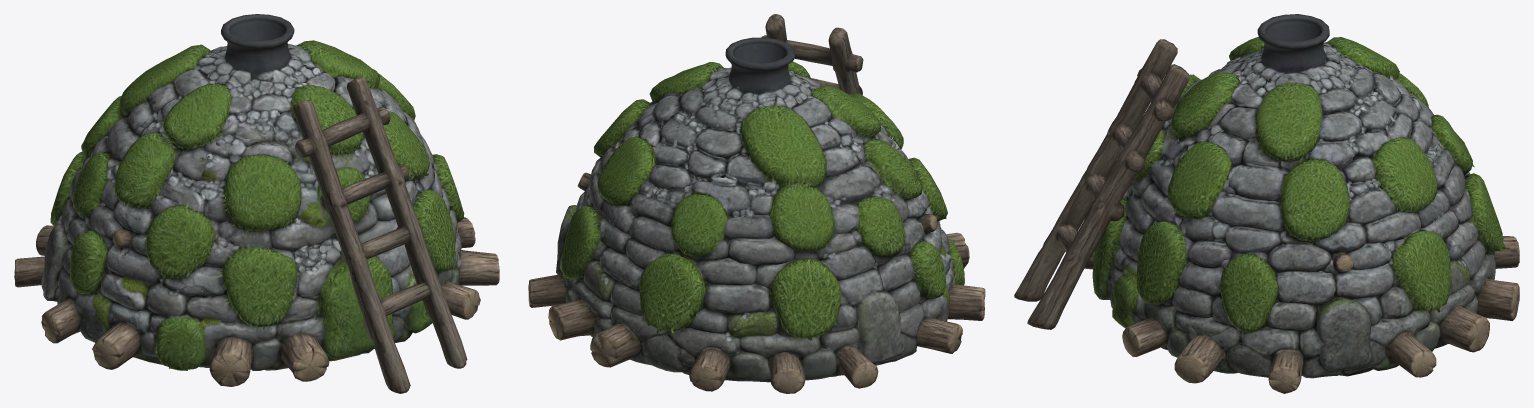
Rendered from lm_charcoal_clamp.glb.
3 renders of one model, left to right at view 1: azimuth 30°, elevation 25°; view 2: azimuth 150°, elevation 25°; view 3: azimuth 270°, elevation 25°, orthographic. The views are drawn at different scales.
Parts seen in each view (by area): view 1: lm_charcoal_clamp-convcol; view 2: lm_charcoal_clamp-convcol; view 3: lm_charcoal_clamp-convcol.
Boxes of the visible parts, <box> form: lm_charcoal_clamp-convcol: <box>14,14,499,393</box>; lm_charcoal_clamp-convcol: <box>528,14,985,393</box>; lm_charcoal_clamp-convcol: <box>1014,14,1519,393</box>.
Bounding box in the file's own units: 3.8 × 2.34 × 4.
1 material, 1 textured.
